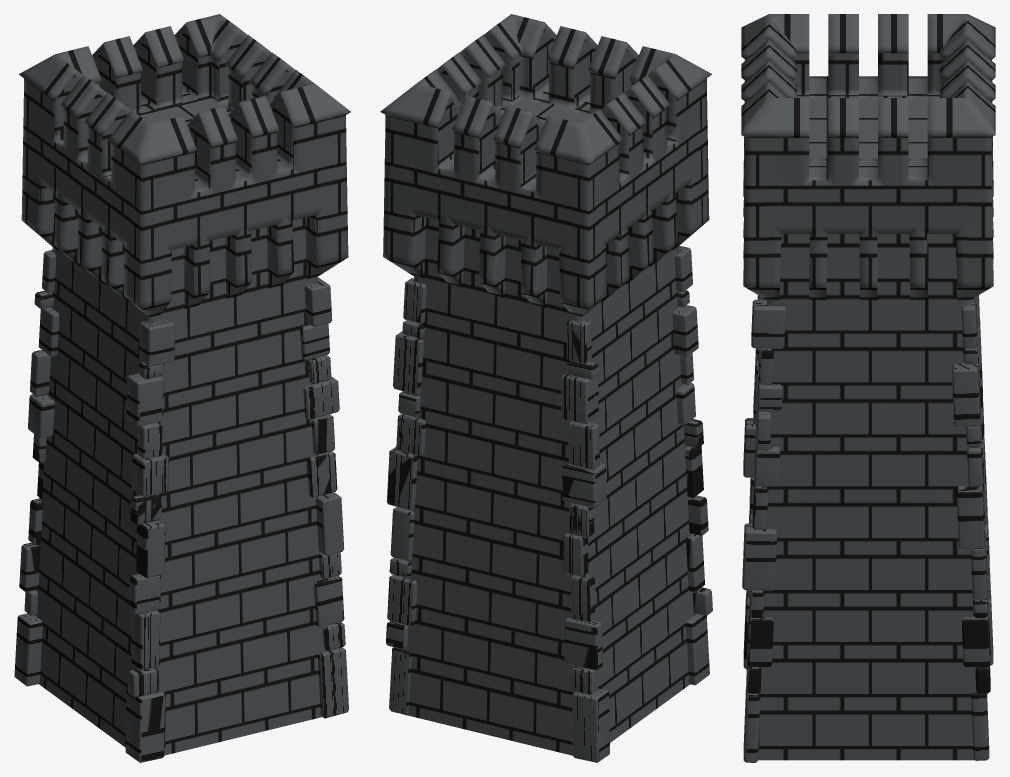
The model's file is Tower.fbx.
The picture shows the model from 3 angles, left to right: view 1: azimuth 30°, elevation 25°; view 2: azimuth 150°, elevation 25°; view 3: azimuth 270°, elevation 25°; orthographic projection. The views are drawn at different scales.
Parts seen in each view (by area): view 1: TowerBase, TowerCrown, TowerBricks, TowerShingles; view 2: TowerBase, TowerCrown, TowerBricks, TowerShingles; view 3: TowerBase, TowerCrown, TowerBricks, TowerShingles.
Part boxes in pixels (x1,y1,x2,y2): TowerBase: (35,217,326,755); TowerCrown: (21,30,348,317); TowerBricks: (14,250,348,762); TowerShingles: (19,14,350,164); TowerBase: (391,217,695,755); TowerCrown: (383,29,709,317); TowerBricks: (386,245,712,762); TowerShingles: (380,14,711,164); TowerBase: (758,234,987,760); TowerCrown: (743,39,993,300); TowerBricks: (742,295,993,762); TowerShingles: (741,14,995,137).
Size of the model in its own units: 2.21 by 6.08 by 2.14.
